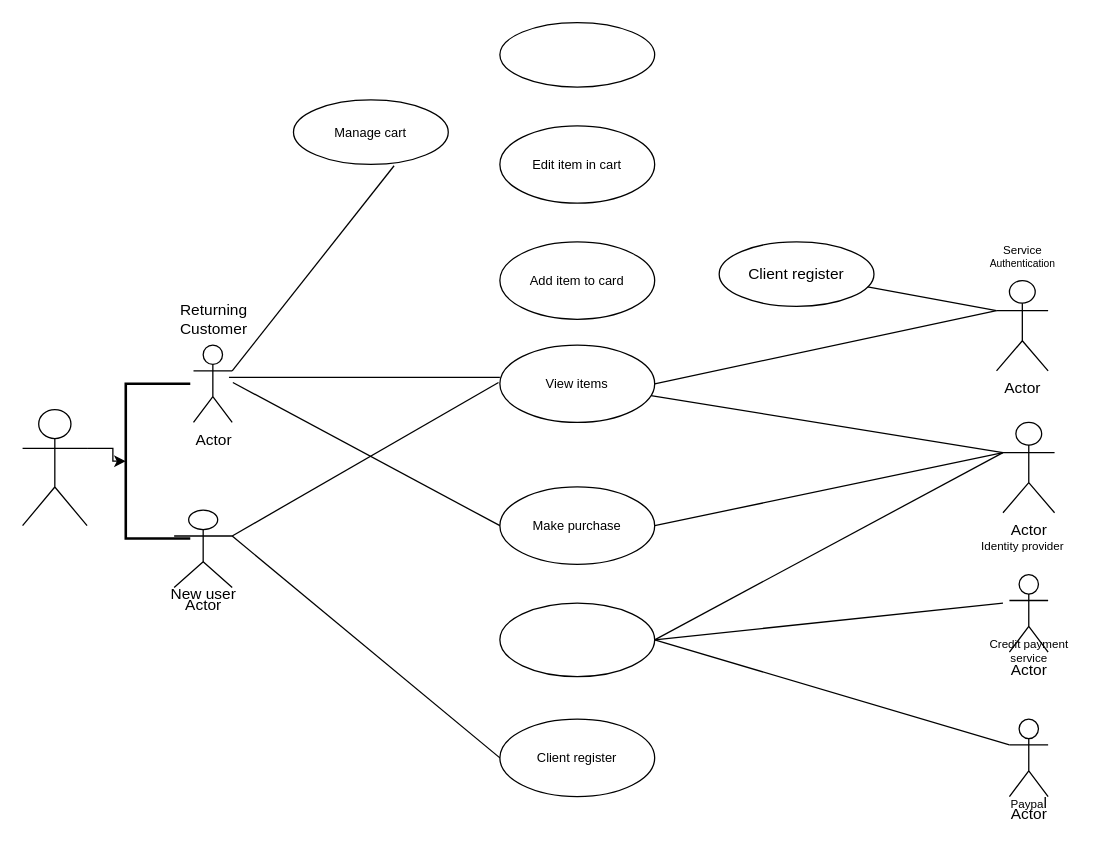
This 1109x846 diagram has some shape labels left out. The centre of each missing label's shape, as x and y in pixels:
"Checkout" belongs at (577,639).
"Delete item in cart" belongs at (577,54).
